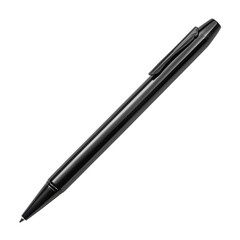pen: (12, 16, 226, 227)
